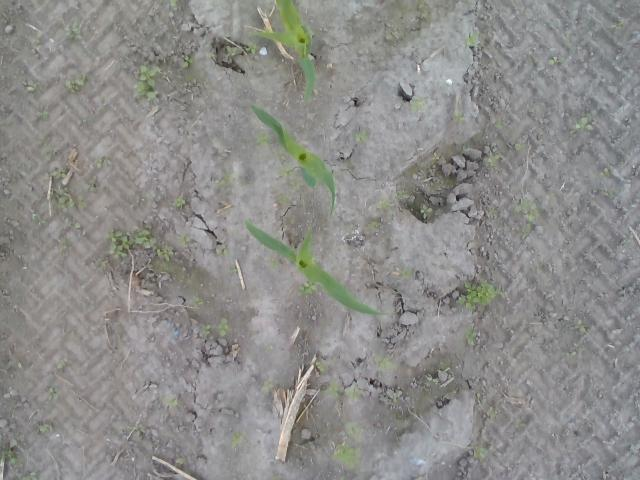Maize: (244, 214, 392, 318), (248, 100, 336, 216), (246, 0, 318, 107)
Weeds: (102, 228, 157, 258), (456, 281, 504, 310), (132, 63, 162, 102), (514, 196, 540, 240), (330, 440, 362, 470), (324, 378, 358, 401), (62, 72, 88, 94), (52, 184, 74, 208), (344, 419, 366, 442), (296, 280, 317, 298), (156, 244, 175, 262), (576, 110, 592, 130), (0, 446, 17, 464), (64, 23, 82, 40), (463, 326, 478, 346), (464, 30, 480, 48), (374, 355, 396, 368), (410, 94, 425, 113), (218, 318, 232, 338), (484, 152, 501, 168), (254, 130, 272, 145), (365, 218, 384, 232), (473, 446, 487, 464), (223, 168, 238, 184), (419, 204, 434, 220), (278, 160, 292, 176), (160, 395, 177, 408), (228, 430, 240, 448), (352, 130, 369, 142), (314, 358, 326, 375), (96, 256, 110, 270), (50, 166, 66, 178), (199, 322, 211, 338), (288, 178, 304, 190), (18, 472, 41, 480), (245, 40, 258, 54), (32, 216, 50, 226), (93, 158, 111, 168), (608, 20, 626, 30), (178, 234, 192, 246), (226, 45, 240, 57), (380, 198, 394, 210), (25, 81, 37, 94), (175, 195, 187, 208), (399, 268, 412, 280), (77, 195, 88, 209), (262, 376, 272, 391), (168, 0, 176, 18), (494, 116, 505, 129), (134, 422, 144, 436), (190, 298, 207, 306), (487, 406, 498, 418), (182, 56, 192, 69), (394, 191, 410, 199), (512, 419, 526, 428), (36, 111, 50, 120), (61, 237, 72, 248), (48, 388, 58, 400), (278, 192, 288, 204), (454, 110, 464, 122), (515, 142, 527, 152), (439, 360, 448, 372), (547, 56, 560, 64), (271, 258, 279, 270), (228, 264, 237, 274), (600, 167, 609, 177), (70, 222, 81, 230), (39, 424, 48, 433), (432, 152, 439, 161), (271, 474, 280, 480), (431, 378, 438, 385), (311, 256, 317, 264), (223, 248, 229, 256), (207, 53, 214, 59)
